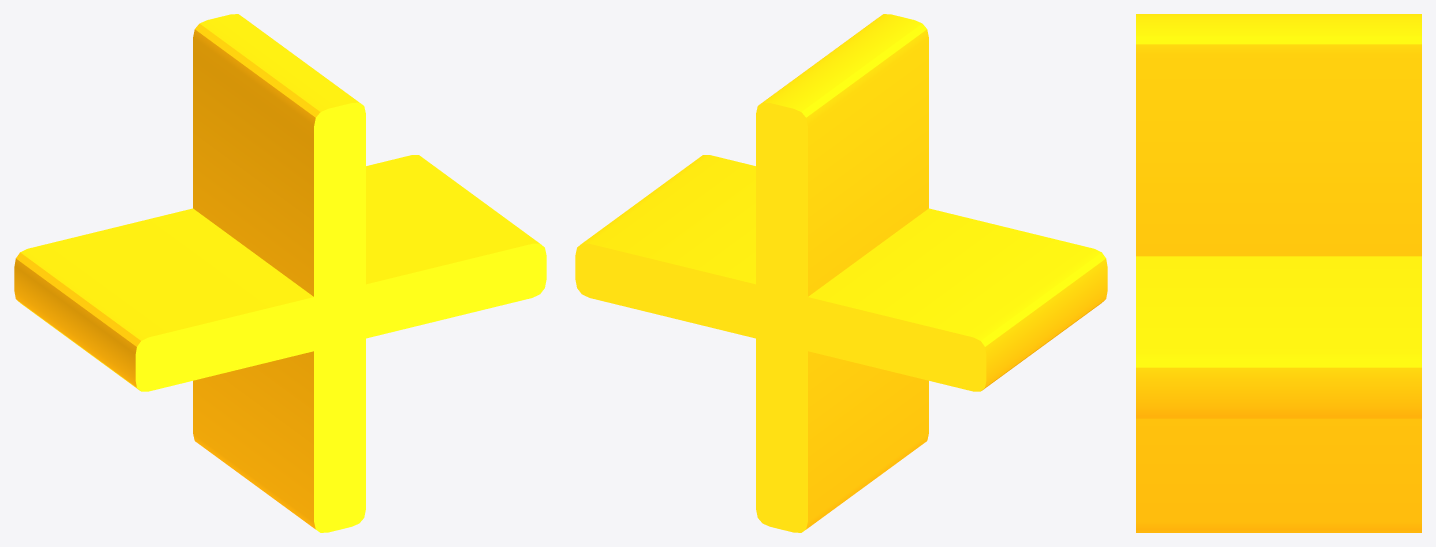
3 renders of one model, left to right at view 1: azimuth 30°, elevation 25°; view 2: azimuth 150°, elevation 25°; view 3: azimuth 270°, elevation 25°, orthographic. The views are drawn at different scales.
Parts seen in each view (by area): view 1: +_Soul_Yellow; view 2: +_Soul_Yellow; view 3: +_Soul_Yellow.
Boxes of the visible parts, x1=… form: +_Soul_Yellow: x1=14, y1=14, x2=546, y2=532; +_Soul_Yellow: x1=575, y1=14, x2=1107, y2=532; +_Soul_Yellow: x1=1136, y1=14, x2=1421, y2=532.
Size of what is drawn, in the model's own units: 0.0882 by 0.0869 by 0.045.
Materials: 2 (2 with a texture image).
